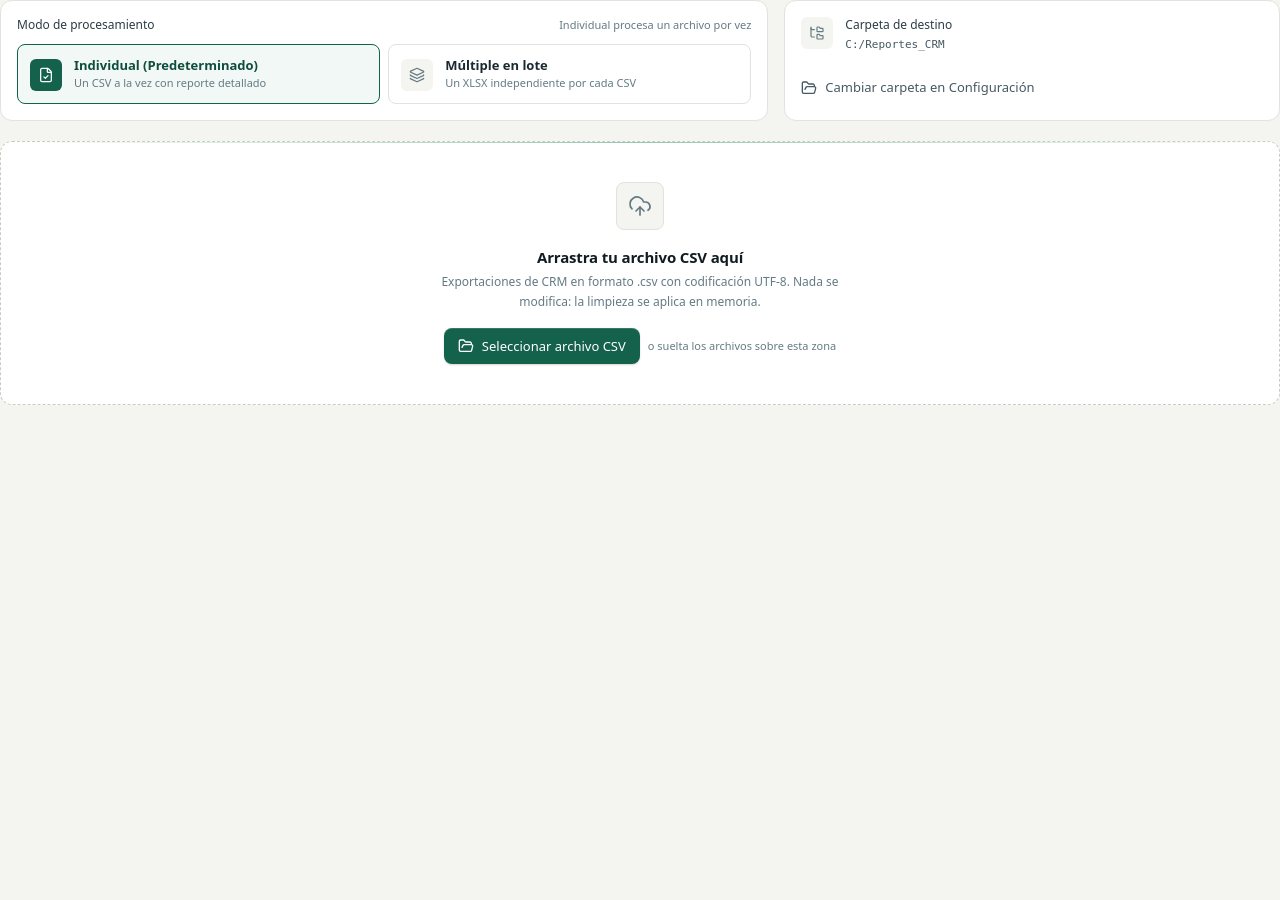
Test case: HomeScreen (Phase 4 Import and Modes) › selects a valid CSV file via dialog and derives output name
This screenshot has width=1280, height=900.
Click the button "Seleccionar archivo CSV" at (542, 346), box [444,328,640,364]
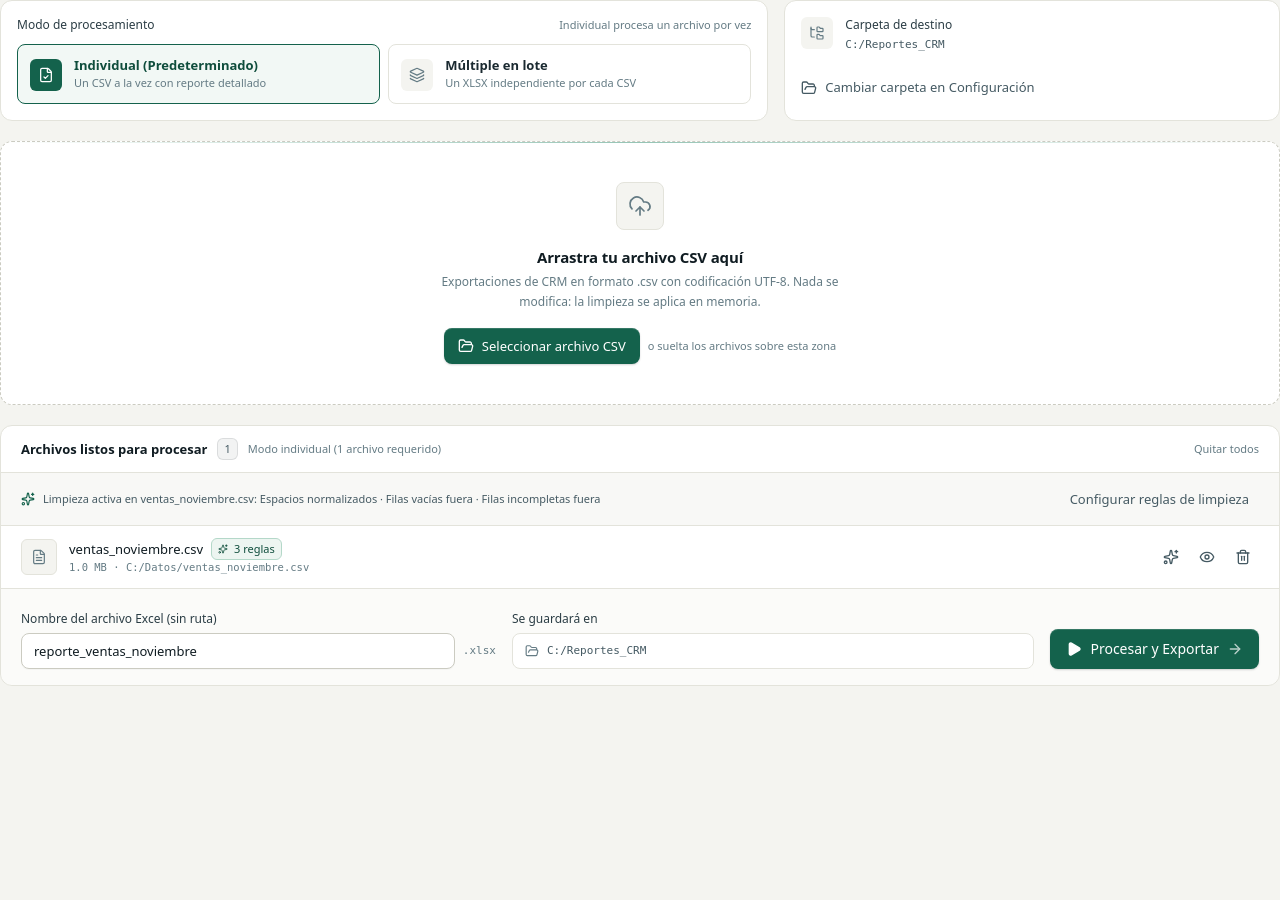
expect the text "ventas_noviembre.csv" is shown: met, box [69,540,203,559]
expect the text "1.0 MB · C:/Datos/ventas_noviembre.csv" is shown: met, box [69,560,309,576]
expect the field showing "reporte_ventas_noviembre" is shown: met, box [21,633,455,669]
